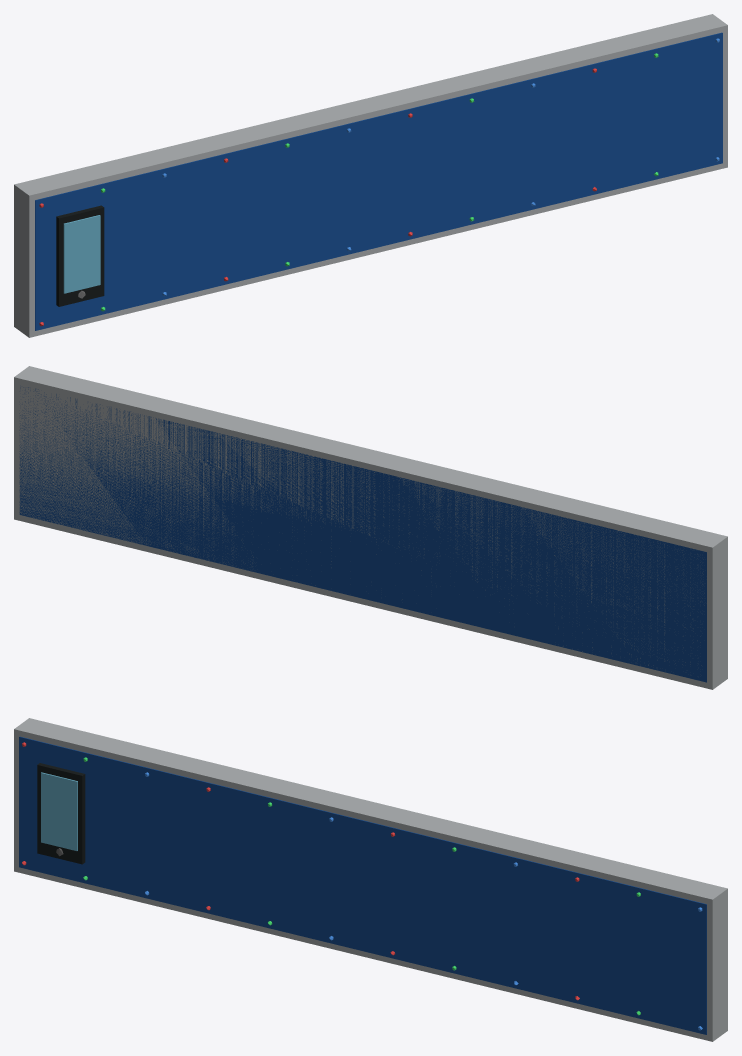
File: bang_sua_dien_thoai_tuan_40.glb
The picture shows the model from 3 angles, top to bottom: view 1: azimuth 30°, elevation 25°; view 2: azimuth 150°, elevation 25°; view 3: azimuth 330°, elevation 25°; orthographic projection.
Parts seen in each view (by area): view 1: bang_sua_dien_thoai_tuan_40; view 2: bang_sua_dien_thoai_tuan_40; view 3: bang_sua_dien_thoai_tuan_40.
Part boxes in pixels (x1=…): bang_sua_dien_thoai_tuan_40: x1=14, y1=14, x2=727, y2=337; bang_sua_dien_thoai_tuan_40: x1=14, y1=366, x2=727, y2=689; bang_sua_dien_thoai_tuan_40: x1=14, y1=718, x2=727, y2=1041.
Bounding box in the file's own units: 3.7 × 0.72 × 0.177.
